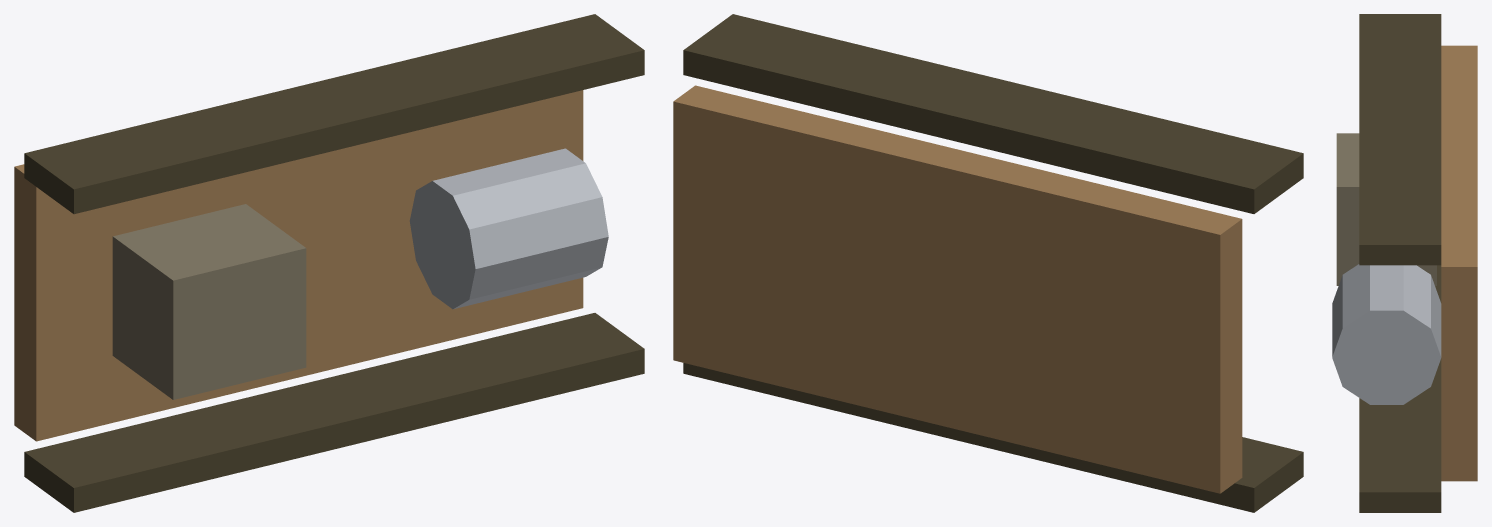
File: 08_skyship_deck.glb
3 renders of one model, left to right at view 1: azimuth 30°, elevation 25°; view 2: azimuth 150°, elevation 25°; view 3: azimuth 270°, elevation 25°, orthographic. The views are drawn at different scales.
Visible parts, largest first — view 1: deck_insert, rail_right, rail_left, cargo_crate, winch; view 2: deck_insert, rail_right, rail_left; view 3: rail_right, deck_insert, winch, rail_left, cargo_crate.
Part boxes in pixels (x1,y1,x2,y2): deck_insert: (14,90,583,441); rail_right: (24,14,644,214); rail_left: (24,313,644,512); cargo_crate: (112,204,306,399); winch: (409,148,608,309); deck_insert: (673,85,1242,493); rail_right: (683,14,1303,213); rail_left: (683,363,1303,512); rail_right: (1359,14,1441,265); deck_insert: (1441,45,1477,481); winch: (1332,264,1441,404); rail_left: (1359,265,1441,512); cargo_crate: (1336,133,1436,285).
Size of the model in its own units: 1.56 by 0.845 by 0.416.
